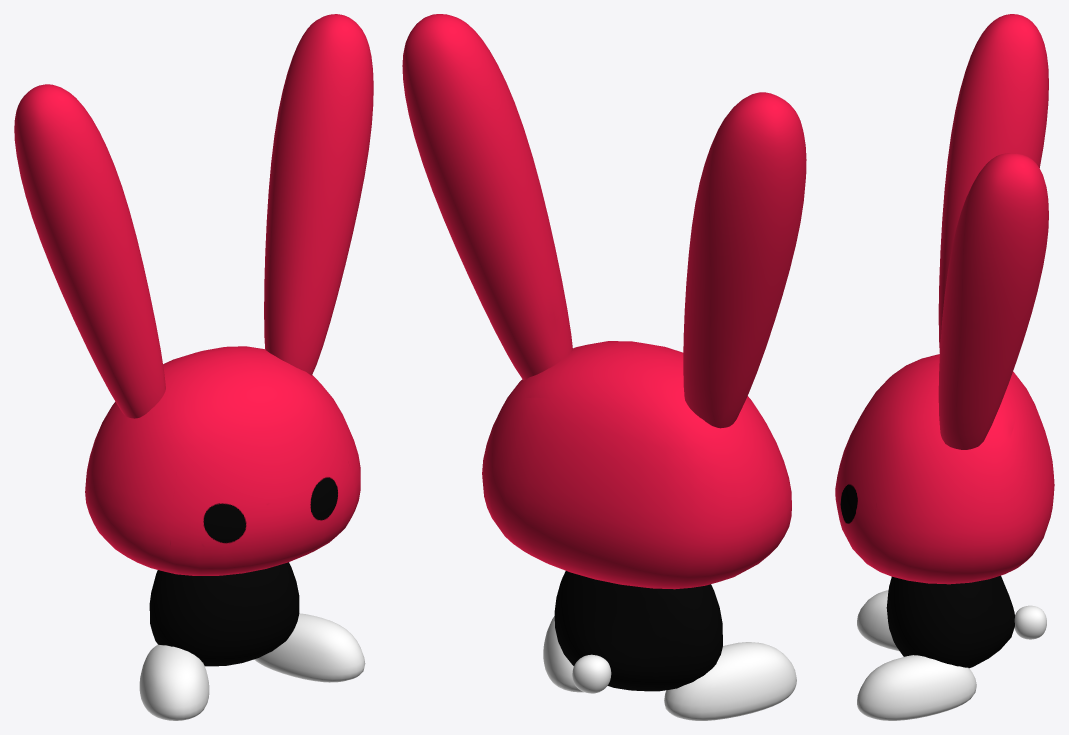
The model's file is pico.glb.
3 renders of one model, left to right at view 1: azimuth 30°, elevation 25°; view 2: azimuth 150°, elevation 25°; view 3: azimuth 270°, elevation 25°, orthographic. The views are drawn at different scales.
Parts seen in each view (by area): view 1: Head.001; view 2: Head.001; view 3: Head.001.
Boxes of the visible parts, x1=… form: Head.001: x1=14, y1=14, x2=373, y2=720; Head.001: x1=402, y1=14, x2=806, y2=720; Head.001: x1=835, y1=14, x2=1054, y2=720.
Size of the model in its own units: 2.74 by 4.53 by 1.52.
1 material, 1 textured.
